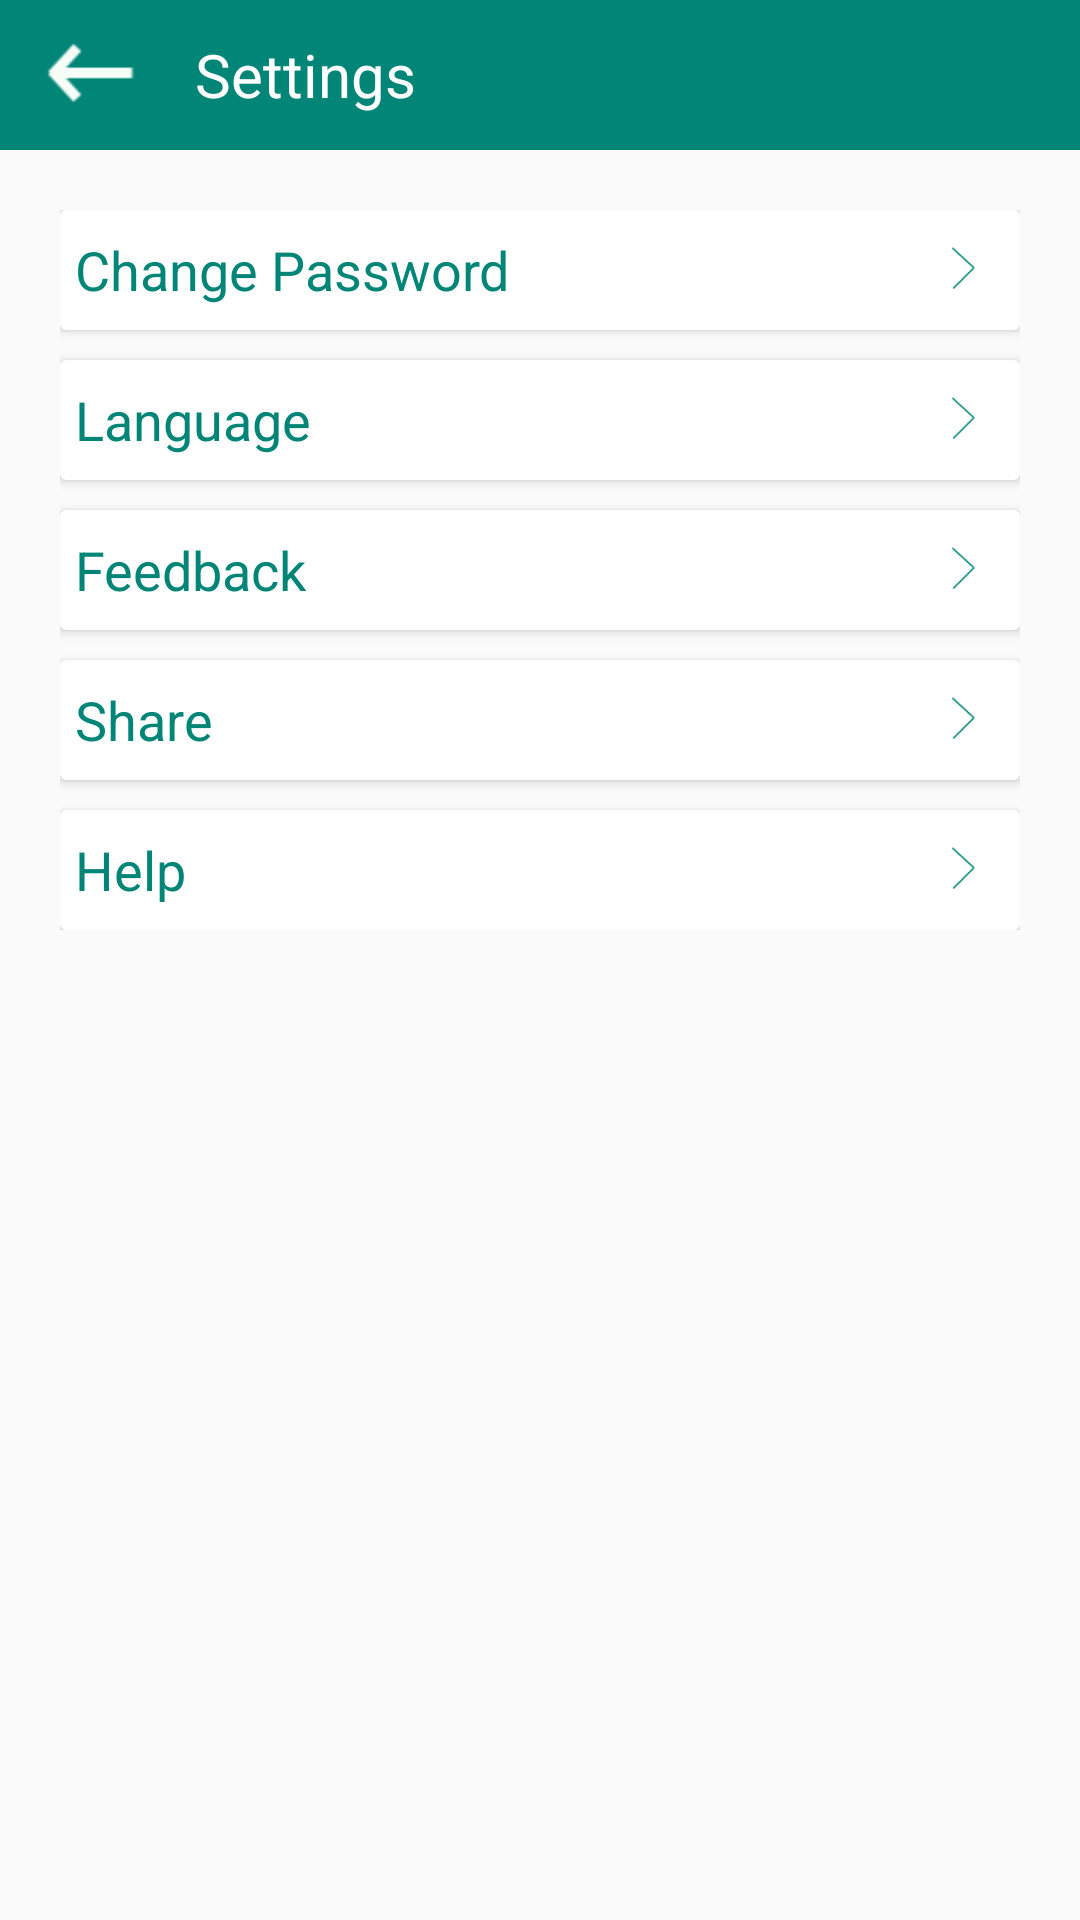

Icon click points for this 1080px x 1920px phone screenshot, format point (x, y):
arrow without tale: point (963, 268), point (963, 418), point (963, 568), point (963, 718), point (963, 868)
back arrow: point (91, 73)
